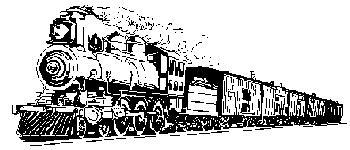train: (8, 2, 347, 146)
